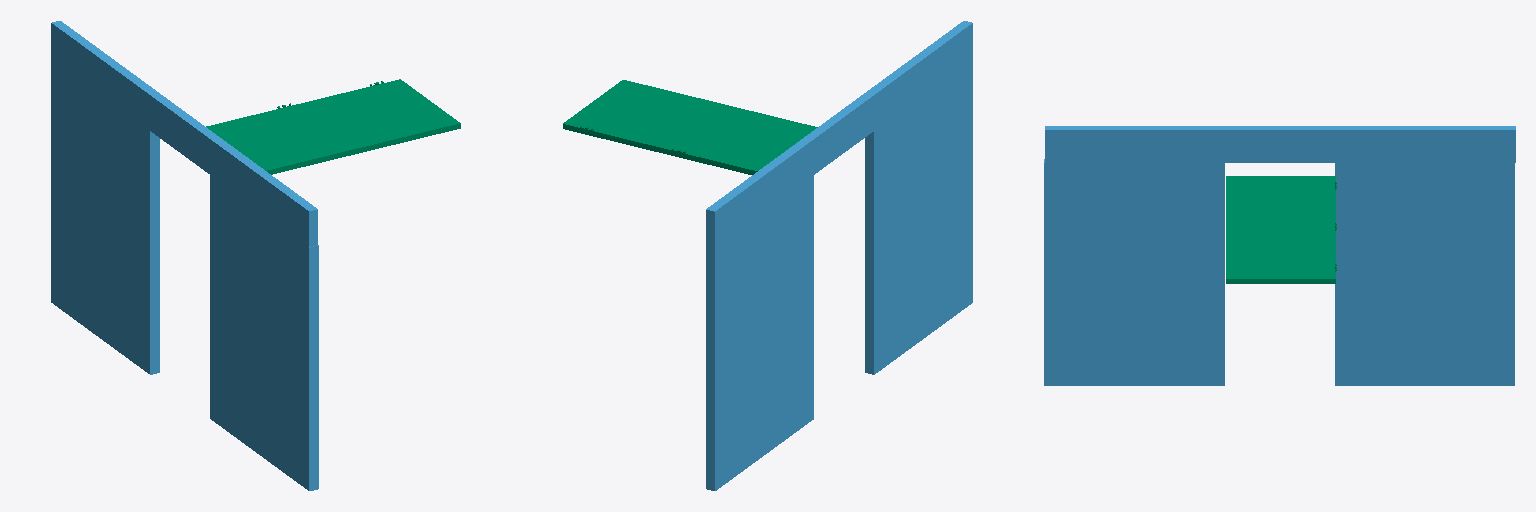
The robot description file, URDF, robot "door_test":
<robot name = 'door_test' xmlns:xacro="http://ros.org/wiki/xacro">
    <!-- <link name = 'world'/> -->
    
    <!-- <joint name = 'world2base' type = 'fixed'>
        <parent link = 'world'/>
        <child link = 'base_link'/>
    </joint> -->

    <link name = 'base_link'/>
        
    <joint name = 'base_joint' type = 'fixed'>
        <parent link = 'base_link'/>
        <origin xyz = '0 0.5 0.0' rpy='0 0 3.14159'/>
        <!-- if move y : the door will slide -->
        <child link = 'door_wall'/>
    </joint>

    <link name = 'door_wall'>
        <visual>
            <geometry>
                <box size='0.08 1.5 2.04'/>
            </geometry>
            <origin xyz = '0 -0.67 1.02' rpy = '0 0 0'/>
        </visual>
        <visual>
            <geometry>
                <box size='0.08 1.5 2.04'/>
            </geometry>
            <origin xyz = '0 1.74 1.02' rpy = '0 0 0'/>
        </visual>
        <visual>
            <geometry>
                <box size='0.08 3.91 0.3'/>
            </geometry>
            <origin xyz = '0 0.532 2.19' rpy = '0 0 0'/>
        </visual>

        <collision name="side_1_:hinge_side">
            <geometry>
                <box size='0.08 1.5 2.04'/>
            </geometry>
            <origin xyz = '0 -0.67 1.02' rpy = '0 0 0'/>
        </collision>
        <collision name="side_2">
            <geometry>
                <box size = '0.05029 0.06858 2.10820'/>
            </geometry>
            <origin xyz="-0.02 1.02 1.05" rpy="0 0 0"/>
        </collision>
        <collision>
            <geometry>
                <box size='0.08 1.5 2.04'/>
            </geometry>
            <origin xyz = '0 1.8 1.02' rpy = '0 0 0'/>
        </collision>
        <collision name="top">
            <geometry>
                <box size='0.08 3.91 0.3'/>
            </geometry>
            <origin xyz = '0 0.532 2.19' rpy = '0 0 0'/>
        </collision>
        <inertial>
            <origin xyz="0 0 0" rpy="0 0 0"/>
            <mass value="10000.0"/>
            <inertia ixx="0.0" ixy="0.0" ixz="0.0" iyy="0.0" iyz="0.0" izz="0.0"/>
        </inertial>
    </link>

    <joint name = 'door_hinge' type = 'revolute'>
        <axis xyz = '0 0 1' rpy = '0 0 0 '/>
        <origin xyz = '-0.07 0.06858 2.040'/>
        <limit lower = '0' upper = '1.57' effort='10000' velocity="100.00"/>
        <dynamics damping="25.0" friction="0.0"/>
        <parent link = 'door_wall'/>
        <child link = 'door'/>
    </joint>

    <link name = 'door'>
        <visual>
            <geometry>
                <mesh filename = './meshes/door.dae'/>
            </geometry>
            <origin xyz = '-0.05 0 0' rpy = '-1.57 0 1.57'/>
            <color rgba = '0.5 0.5 0.5 1.0'/>
        </visual>
        <collision name="door_collision">
            <geometry>
                <mesh filename = './meshes/door.dae'/>
            </geometry>
            <origin xyz = '-0.05 0 0' rpy = '-1.57 0 1.57'/>
        </collision>
        <inertial>
            <origin xyz="0.4569 0.0349 1.016" rpy="0 0 0"/>
            <mass value="41.3256"/>
            <inertia ixx="14.2053" ixy="0.0004" ixz="0.0000" iyy="17.1997" iyz="0.0000" izz="3.0298"/>
        </inertial>
    </link>

    <joint name = 'door_handle' type = 'revolute'>
        <axis xyz = '1 0 0' rpy = '0 0 0 '/>
        <parent link = 'door'/>
        <origin xyz = '0.035 0.75 -1.02'/>
        <limit lower = '0' upper = '0.5236' effort='100' velocity="1000.00"/>
        <dynamics damping="0.01" friction="0.0"/>
        <child link = 'door_handles'/>
    </joint>

    <link name = 'door_handles'>
        <visual>
            <geometry>
                <mesh filename = './meshes/door_handle.dae' scale='1.23 1.27 0.7'/> 
                <!-- original scaling 0.676 0.7 0.385 -->
            </geometry>
            <origin xyz = '0 0 0' rpy = '0 3.141592 1.57'/>
            <color rgba = '0.55 0.5 0.5 1.0'/>
        </visual>
        <visual>
            <geometry>
                <mesh filename = './meshes/door_handle.dae' scale='1.23 1.27 0.7'/>
            </geometry>
            <origin xyz = '0.04 0 0' rpy = '0 0 -1.57'/>
             <color rgba = '0.5 0.5 0.5 1.0'/>
        </visual>
        <collision>
            <geometry>
                <!-- <mesh filename="./meshes/door_handle_collision.dae" scale='1.23 1.27 0.7'/> -->
                <mesh filename='./meshes/door_handle_collision.dae' scale='1.23 1.27 0.7'/>

            </geometry>
            <origin xyz = '0 0 0' rpy = '0 3.141592 1.57'/>
        </collision>
        <collision>
            <geometry>
                <mesh filename="./meshes/door_handle_collision.dae" scale='1.23 1.27 0.7'/>
            </geometry>
            <origin xyz = '0.045 0 0' rpy = '0 0 -1.57'/>
        </collision>
        <inertial>
            <origin xyz="0.0 0.0 0.0" rpy="3.14159 0 1.57"/>
            <mass value="1.0"/>
            <!-- <inertia ixx="14.2053" ixy="0.0004" ixz="0.0000" iyy="17.1997" iyz="0.0000" izz="3.0298"/> -->
        </inertial>
    </link>
    
    <joint name = 'handle2latch' type = 'fixed'>
        <parent link = 'door_handles'/>
        <child link = 'door_latch'/>
    </joint>

    <link name='door_latch'>
        <collision>
            <geometry>
                <box size='0.001 0.14 0.01'/>
            </geometry>
            <origin xyz = '0.043 0.1 0' rpy = '0 0 0'/>
        </collision>
    </link>
    <!-- <gazebo reference="world">
        <material>Gazebo/Red</material>
    </gazebo> -->

</robot>

--- Facts derived from the render (not from the file) ---
Views: 3 orthographic renders of the robot side by side, from view 1: azimuth 30°, elevation 25°; view 2: azimuth 150°, elevation 25°; view 3: azimuth 270°, elevation 25°.
Robot: door_test — 5 links, 4 joints (2 revolute, 2 fixed); root link base_link; default pose: every joint at zero.
Visible links, largest first — view 1: door_wall, door; view 2: door_wall, door; view 3: door_wall, door.
Link boxes in pixels (<box>): door_wall: <box>51,21,318,490</box>; door: <box>206,79,460,174</box>; door_wall: <box>706,21,972,490</box>; door: <box>563,80,817,174</box>; door_wall: <box>1044,126,1515,385</box>; door: <box>1226,176,1336,283</box>.
Size in the robot's own frame: 2.19 by 3.91 by 2.34 metres.
Meshes: 2 distinct files referenced, 1 mesh visuals loaded (1 Collada DAE); not drawn: 2 (reference not matched to a file when rendering).